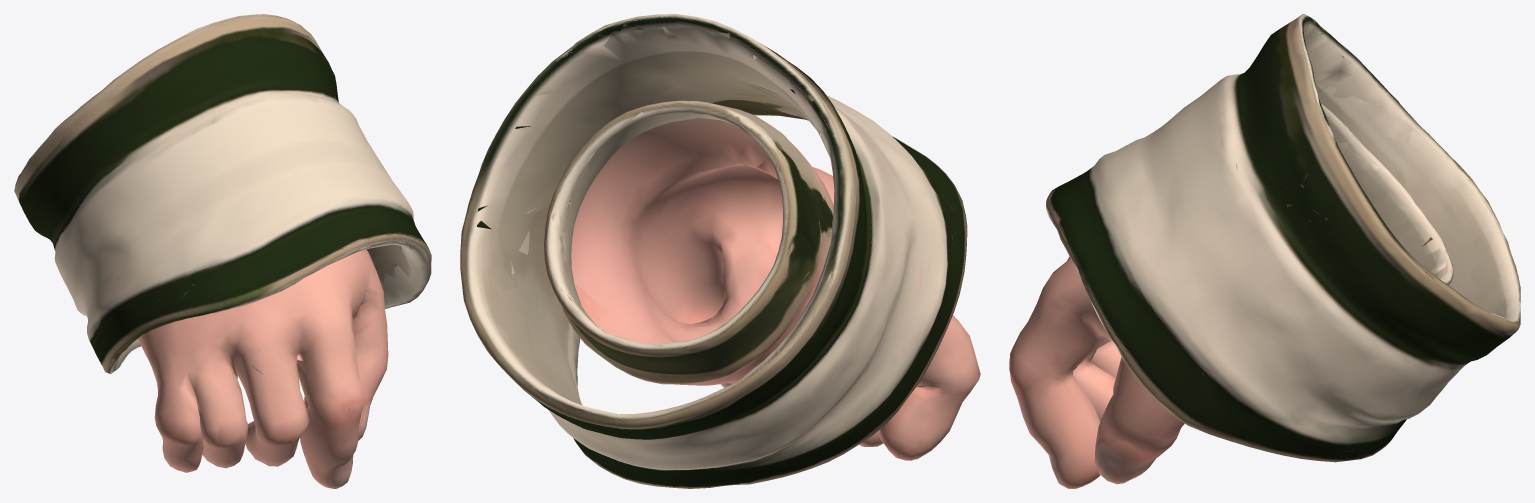
Rendered from mano.glb.
3 renders of one model, left to right at view 1: azimuth 30°, elevation 25°; view 2: azimuth 150°, elevation 25°; view 3: azimuth 270°, elevation 25°, orthographic. The views are drawn at different scales.
Parts seen in each view (by area): view 1: manga_mano, mano_apuntando; view 2: manga_mano, mano_apuntando; view 3: manga_mano, mano_apuntando.
Part boxes in pixels (left/top/right/bottom): manga_mano: left=14, top=14, right=431, bottom=373; mano_apuntando: left=138, top=249, right=388, bottom=488; manga_mano: left=460, top=14, right=967, bottom=488; mano_apuntando: left=544, top=100, right=980, bottom=460; manga_mano: left=1046, top=14, right=1520, bottom=462; mano_apuntando: left=1009, top=102, right=1453, bottom=488.
Bounding box in the file's own units: 0.4846 × 0.6078 × 0.6266.
1 material, 1 textured.
